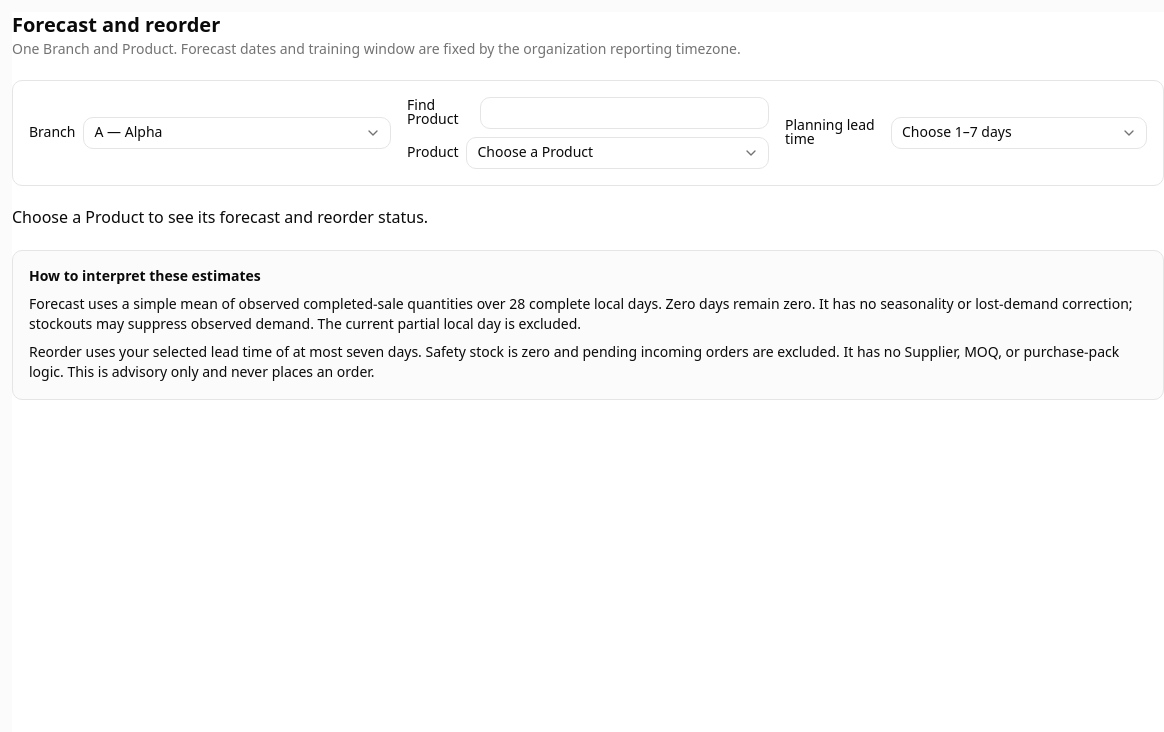
Forecast and reorder view › announces INACTIVE_PRODUCT without a fabricated quantity
This screenshot has width=1164, height=732.
Select "ONE — One" in the dropdown labelled "Product". click: coordinates (618, 153)
box: [466, 137, 769, 169]
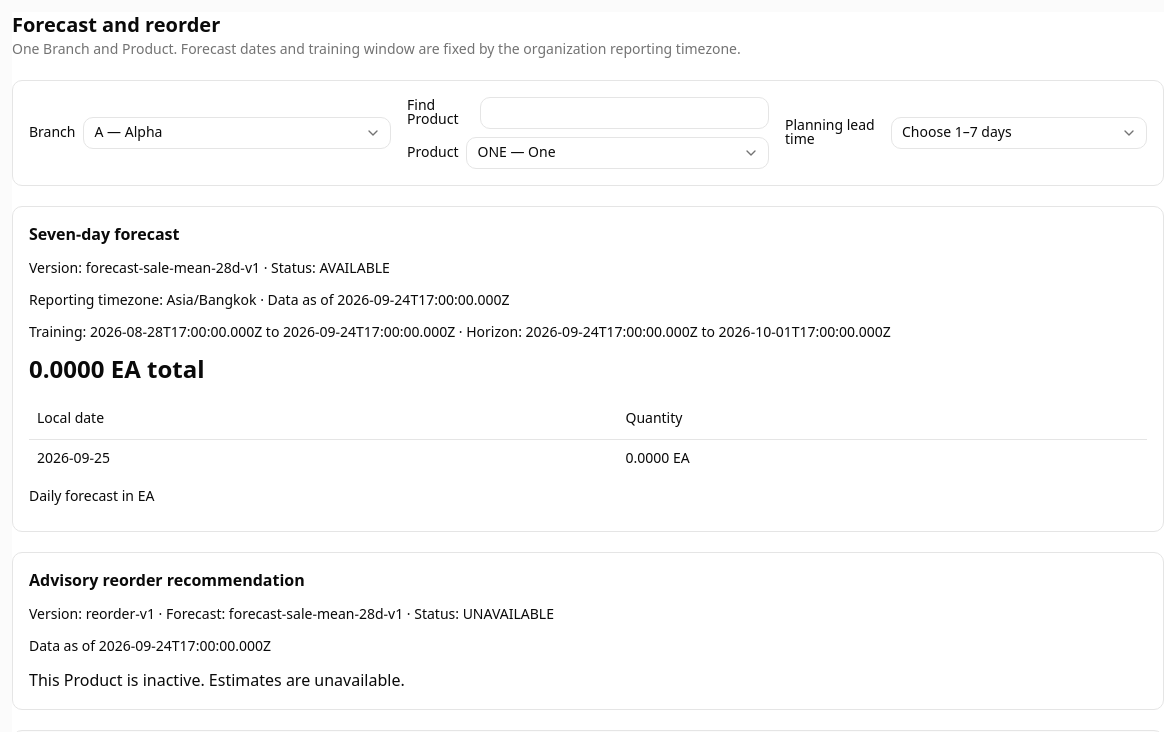
Expected: the message "This Product is inactive. Estimates are unavailable." is shown, [29, 669, 405, 693]
